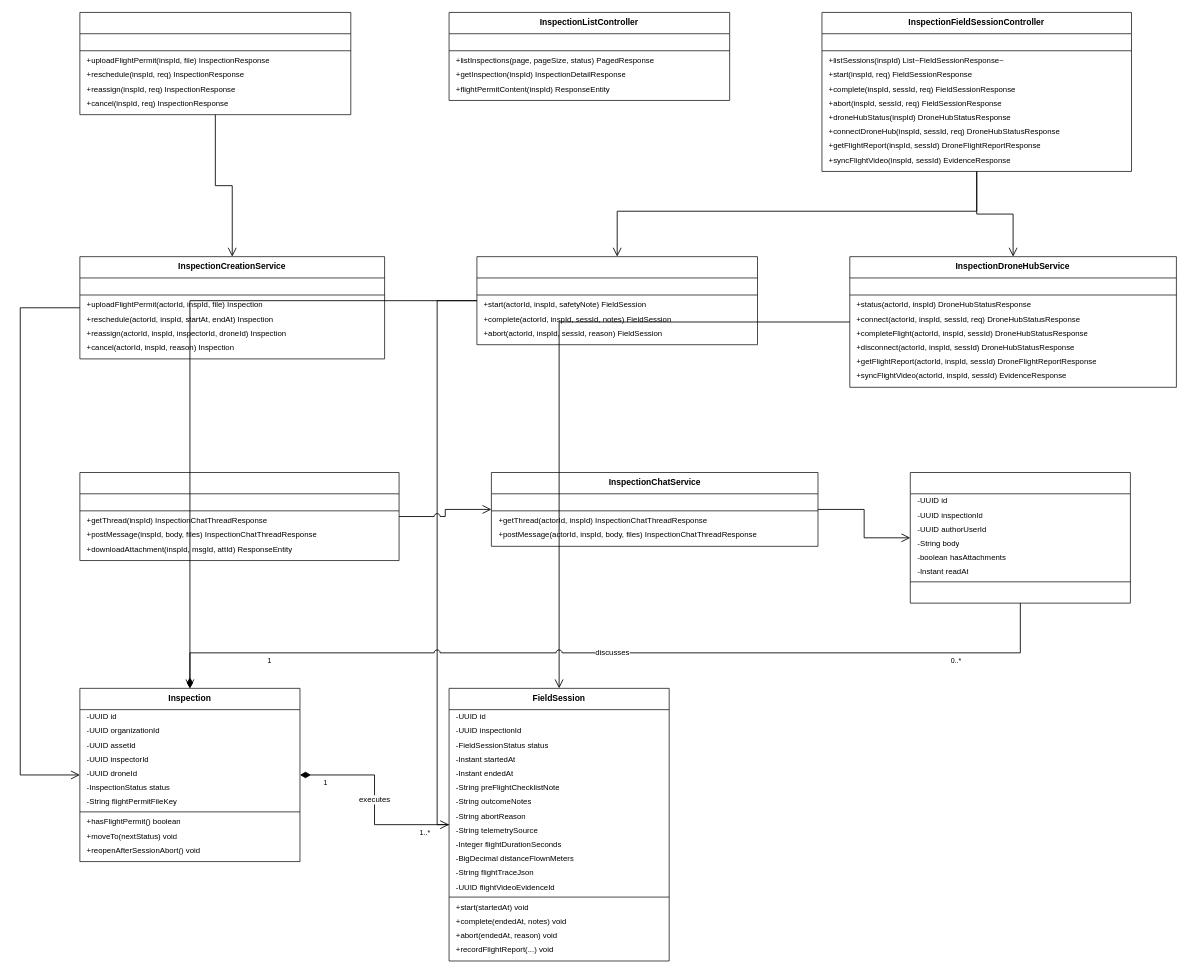
Some shapes in this 1189 by 973 pixel diagram are drawn without their labels. Here are the shapes that lost their labels. From the top down, the box of each, then its label:
(79, 12, 351, 115): InspectionController
(476, 256, 757, 345): InspectionFieldSessionService
(79, 472, 399, 561): InspectionChatController
(910, 472, 1130, 603): InspectionMessage
